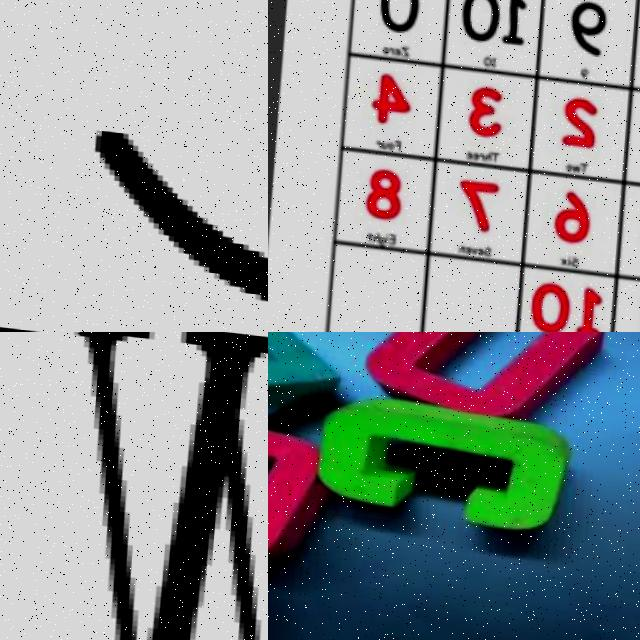0: (524, 274, 573, 332), (456, 0, 498, 42), (376, 0, 421, 32)
1: (572, 275, 605, 332), (497, 0, 531, 47)
2: (553, 91, 604, 147)
3: (467, 82, 507, 140)
4: (364, 65, 415, 128)
6: (549, 183, 597, 242)
7: (454, 172, 506, 231)
8: (361, 162, 410, 223)
9: (566, 0, 611, 55)
C: (294, 388, 579, 543)
O: (268, 407, 333, 577)
U: (361, 332, 626, 424)
W: (8, 332, 268, 640)
